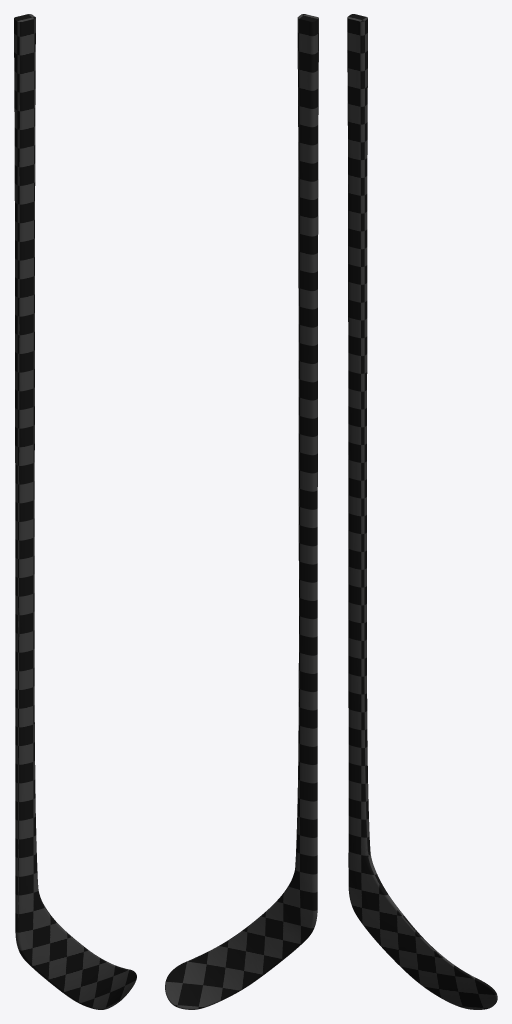
File: P28M-SBO.glb
3 views of the same model, side by side, from view 1: azimuth 30°, elevation 25°; view 2: azimuth 150°, elevation 25°; view 3: azimuth 330°, elevation 25° (orthographic). The views are drawn at different scales.
Visible parts, largest first — view 1: geometry_0; view 2: geometry_0; view 3: geometry_0.
Part boxes in pixels (x1,y1,x2,y2): geometry_0: [14, 14, 136, 1009]; geometry_0: [165, 14, 318, 1009]; geometry_0: [347, 14, 497, 1009].
Bounding box in the file's own units: 231 × 1650 × 71.83.
1 material, 1 textured.
